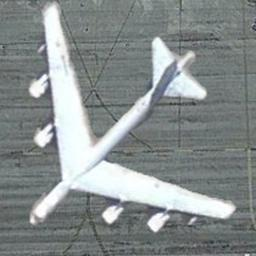Airplane: (26, 0, 236, 233)
